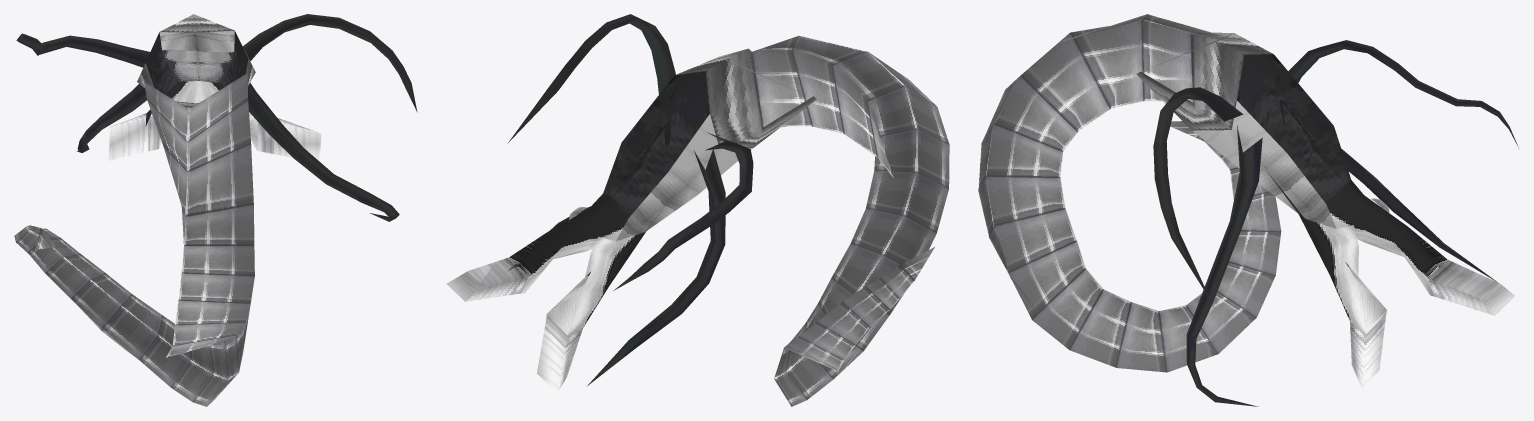
The model's file is ps2_save-icons_shinmegamitenseinocturne-chronicleversion.glb.
3 renders of one model, left to right at view 1: azimuth 30°, elevation 25°; view 2: azimuth 150°, elevation 25°; view 3: azimuth 270°, elevation 25°, orthographic. The views are drawn at different scales.
Parts seen in each view (by area): view 1: base.ico; view 2: base.ico; view 3: base.ico.
Part boxes in pixels (x1,y1,x2,y2): base.ico: (14, 14, 417, 406); base.ico: (446, 14, 949, 406); base.ico: (978, 14, 1518, 406).
Size of the model in its own units: 4.47 by 3.67 by 4.9.
1 material, 1 textured.
